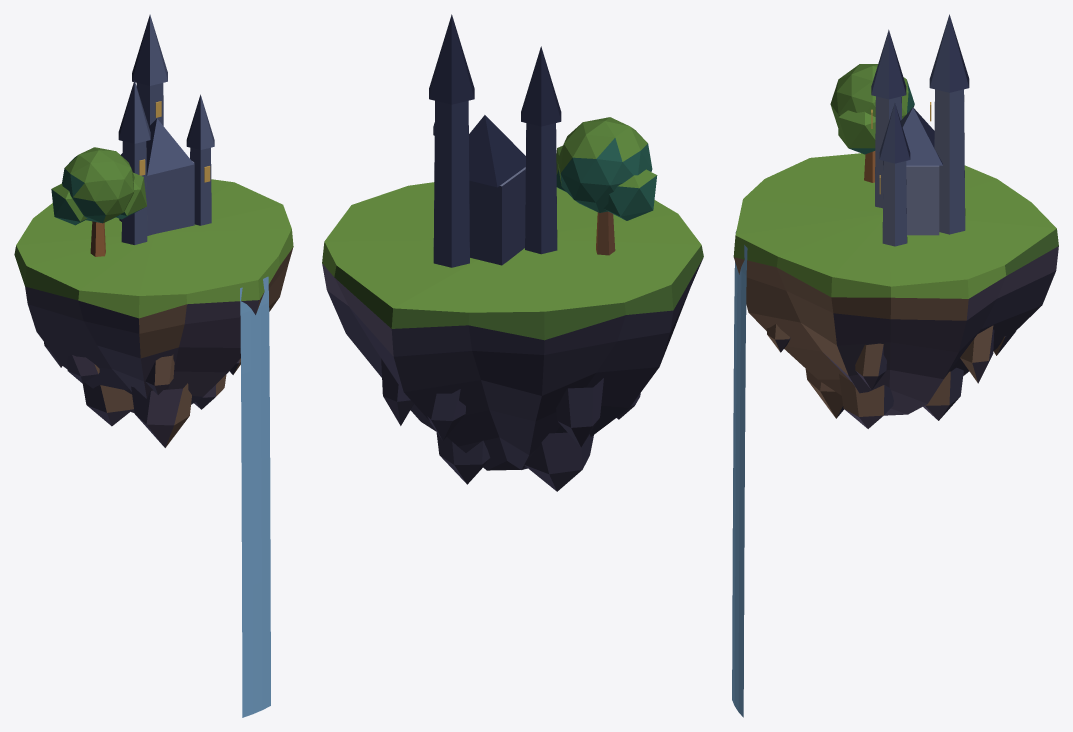
The model's file is far_island_b.glb.
3 renders of one model, left to right at view 1: azimuth 30°, elevation 25°; view 2: azimuth 150°, elevation 25°; view 3: azimuth 270°, elevation 25°, orthographic. The views are drawn at different scales.
Parts seen in each view (by area): view 1: Island, Waterfall; view 2: Island; view 3: Island, Waterfall.
Part boxes in pixels (x1,y1,x2,y2): Island: (14, 14, 293, 447); Waterfall: (240, 276, 270, 717); Island: (322, 14, 703, 491); Island: (733, 14, 1058, 428); Waterfall: (732, 231, 747, 717).
Size of the model in its own units: 40.37 by 94.03 by 40.41.
